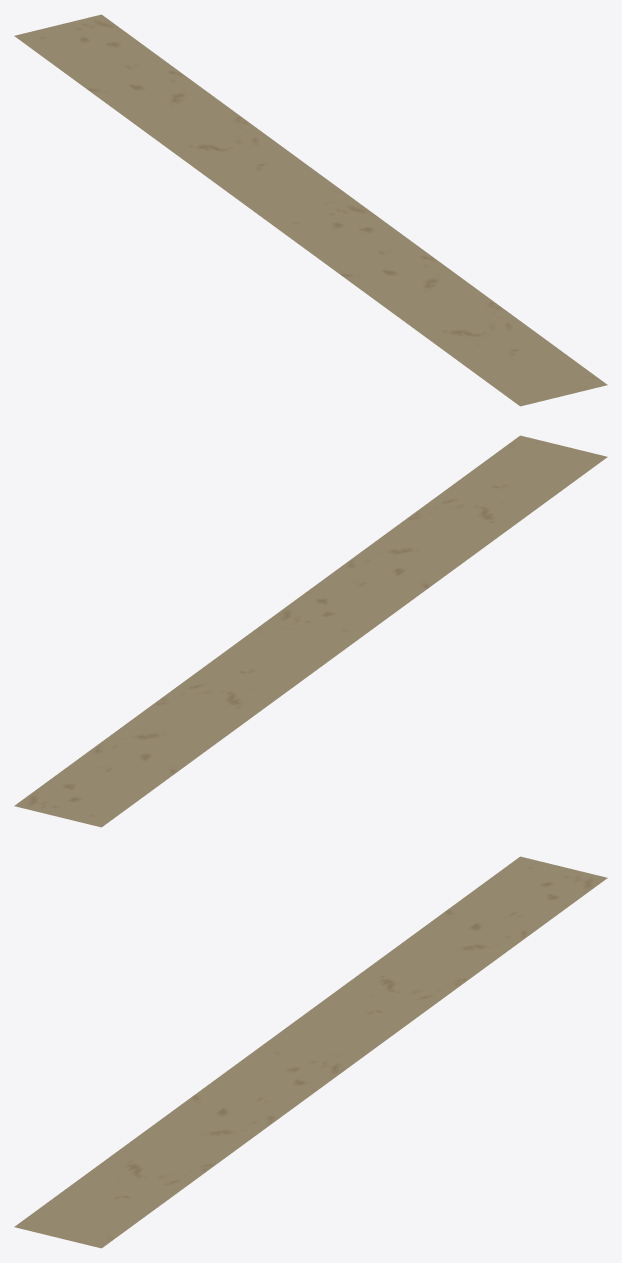
The model's file is SW_ENV_Ceiling_A_0-5x5m.fbx.
3 renders of one model, top to bottom at view 1: azimuth 30°, elevation 25°; view 2: azimuth 150°, elevation 25°; view 3: azimuth 330°, elevation 25°, orthographic.
Visible parts, largest first — view 1: SW_ENV_Ceiling_A_0-5x5m; view 2: SW_ENV_Ceiling_A_0-5x5m; view 3: SW_ENV_Ceiling_A_0-5x5m.
Boxes of the visible parts, x1=… form: SW_ENV_Ceiling_A_0-5x5m: x1=14, y1=14, x2=607, y2=406; SW_ENV_Ceiling_A_0-5x5m: x1=14, y1=435, x2=607, y2=827; SW_ENV_Ceiling_A_0-5x5m: x1=14, y1=856, x2=607, y2=1248.
Size of the model in its own units: 50 by 4.26e-12 by 500.
